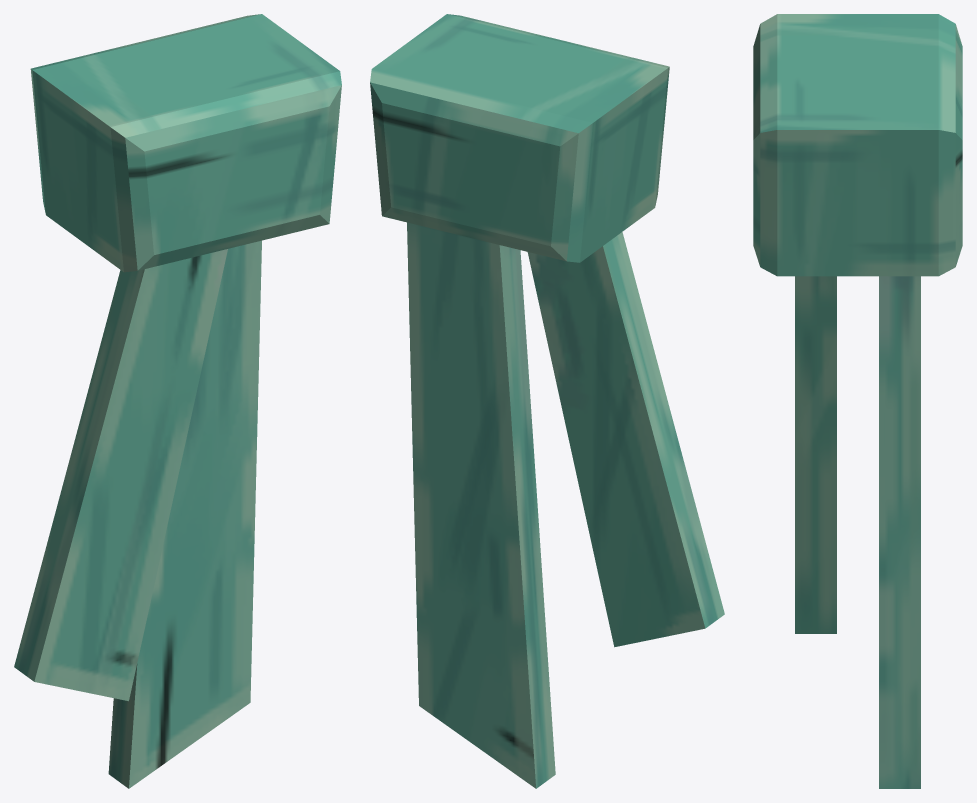
Rendered from knife_charm.fbx.
The picture shows the model from 3 angles, left to right: view 1: azimuth 30°, elevation 25°; view 2: azimuth 150°, elevation 25°; view 3: azimuth 270°, elevation 25°; orthographic projection. The views are drawn at different scales.
Visible parts, largest first — view 1: knife_charm; view 2: knife_charm; view 3: knife_charm.
Part boxes in pixels (<box>): knife_charm: <box>14,14,341,788</box>; knife_charm: <box>370,14,724,788</box>; knife_charm: <box>753,14,962,788</box>.
Bounding box in the file's own units: 0.0825 × 0.1894 × 0.0488.
